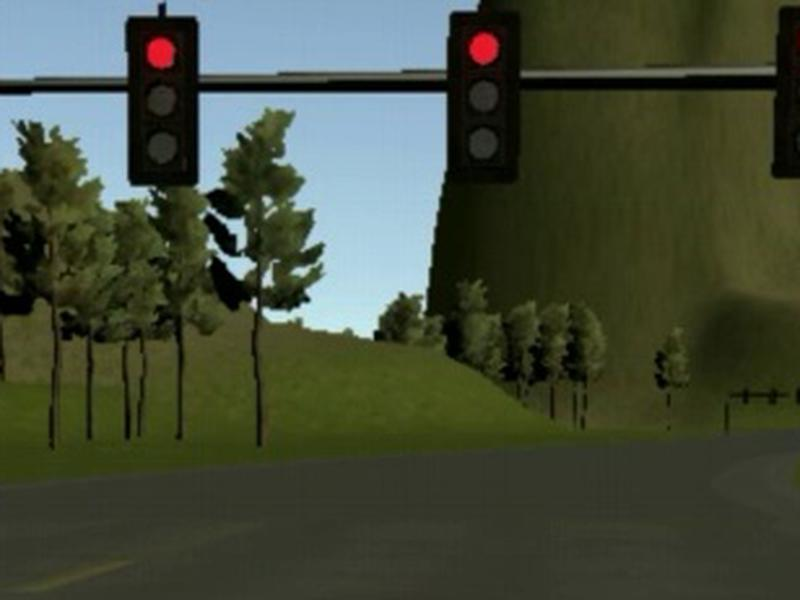Red: (124, 14, 199, 188), (446, 9, 520, 184)
